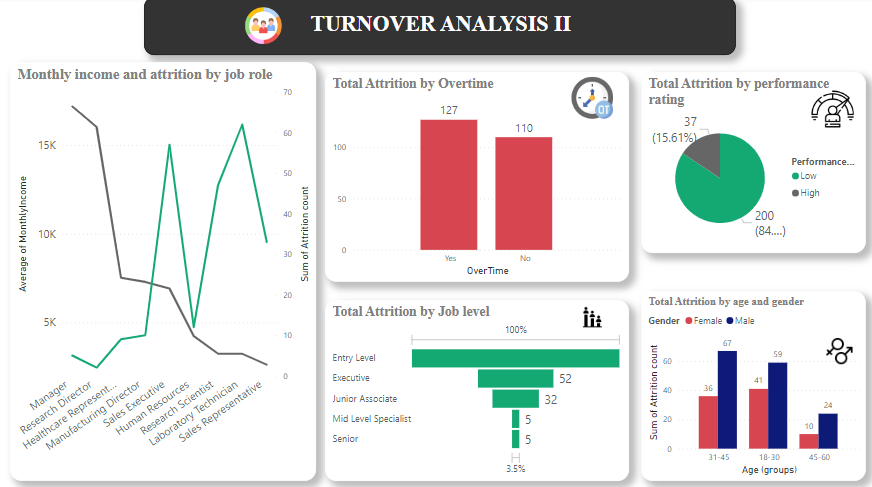

The dashboard page shown, as its layout file describes it:
{"tool":"powerbi","page":{"name":"Page 4","canvas":[1280,720],"ordinal":3},"visuals":[{"type":"textbox","box":[10.2,0,13.2,279.5],"z":0},{"type":"textbox","box":[10.2,289.8,13.2,281],"z":1000},{"type":"textbox","box":[213.7,0,866.3,84.9],"z":2000},{"type":"image","box":[326.3,8.8,122.9,65.9],"z":3000},{"type":"lineChart","title":"Monthly income and attrition by job role","fields":{"Category":["HR-Employee-Attrition.JobRole"],"Y":["Avg(HR-Employee-Attrition.MonthlyIncome)"],"Y2":["Sum(HR-Employee-Attrition.Attrition count)"]},"box":[17.6,95.1,447.8,613.2],"z":4000},{"type":"clusteredColumnChart","title":"Total Attrition by age and gender","fields":{"Category":["HR-Employee-Attrition.Age (groups)"],"Y":["Sum(HR-Employee-Attrition.Attrition count)"],"Series":["HR-Employee-Attrition.Gender"]},"box":[941,430.2,329.3,278],"z":5000},{"type":"image","box":[1205.9,491.7,51.2,52.7],"z":6000},{"type":"pieChart","title":"Total Attrition by performance rating","fields":{"Y":["Sum(HR-Employee-Attrition.Attrition count)"],"Category":["HR-Employee-Attrition.PerformanceRating (groups)"]},"box":[941,109.8,329.3,264.9],"z":7000},{"type":"image","box":[1185.4,122.9,71.7,82],"z":8000},{"type":"funnel","title":"Total Attrition by Job level","fields":{"Category":["HR-Employee-Attrition.JobLevel (groups)"],"Y":["Sum(HR-Employee-Attrition.Attrition count)"]},"box":[478.5,443.4,444.9,264.9],"z":9000},{"type":"image","box":[831.2,444.9,76.1,46.8],"z":10000},{"type":"clusteredColumnChart","title":"Total Attrition by Overtime","fields":{"Category":["HR-Employee-Attrition.OverTime"],"Y":["Sum(HR-Employee-Attrition.Attrition count)"]},"box":[478.5,109.8,444.9,307.3],"z":11000},{"type":"image","box":[831.2,109.8,76.1,74.6],"z":12000}]}

Visuals, with their boxes in screenshot pixels (x1, y1, x2, y2), scaled from the page's 1280x720 canvas onto the 872x487 screenshot:
textbox: detection(7, 0, 16, 189)
textbox: detection(7, 196, 16, 386)
textbox: detection(146, 0, 736, 57)
image: detection(222, 6, 306, 51)
"Monthly income and attrition by job role" lineChart: detection(12, 64, 317, 479)
"Total Attrition by age and gender" clusteredColumnChart: detection(641, 291, 865, 479)
image: detection(822, 333, 856, 368)
"Total Attrition by performance rating" pieChart: detection(641, 74, 865, 253)
image: detection(808, 83, 856, 139)
"Total Attrition by Job level" funnel: detection(326, 300, 629, 479)
image: detection(566, 301, 618, 333)
"Total Attrition by Overtime" clusteredColumnChart: detection(326, 74, 629, 282)
image: detection(566, 74, 618, 125)
